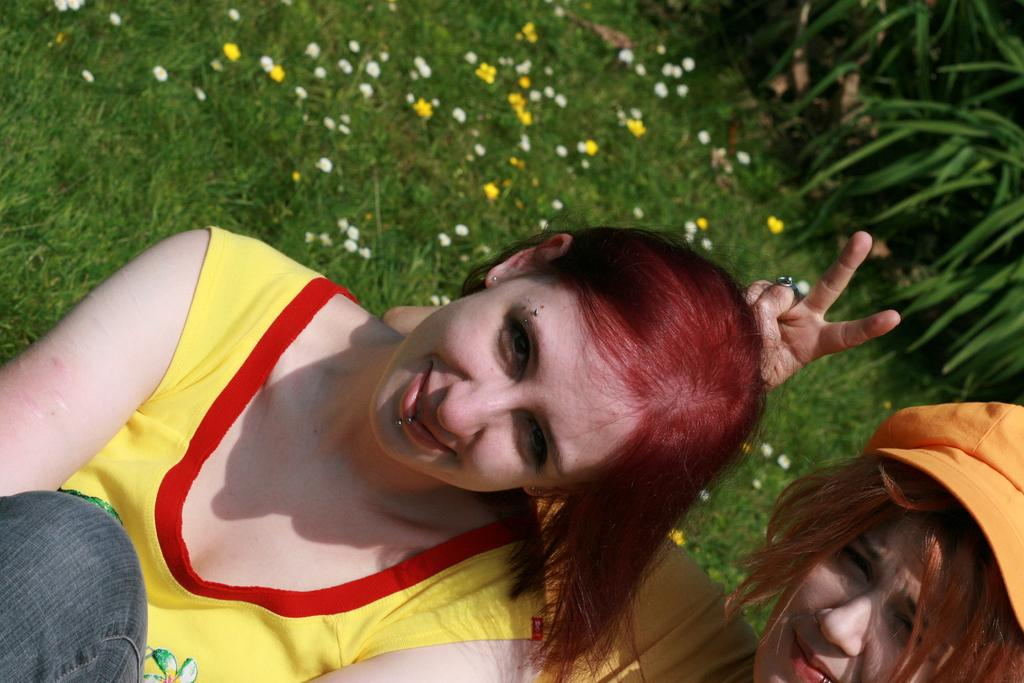Hat: (859, 398, 1023, 634)
